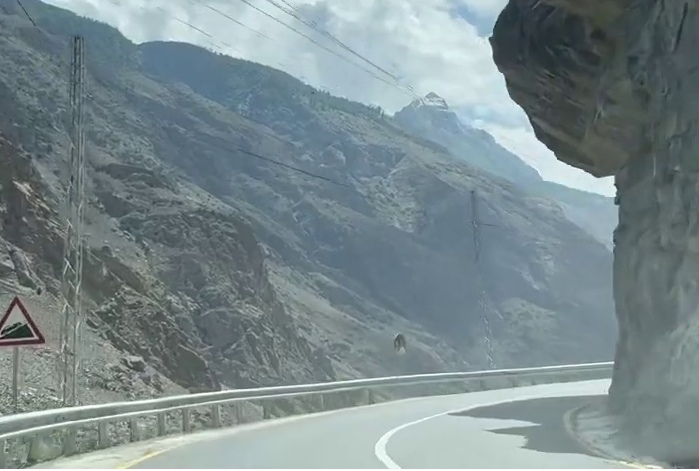stright: (300, 378, 616, 471)
